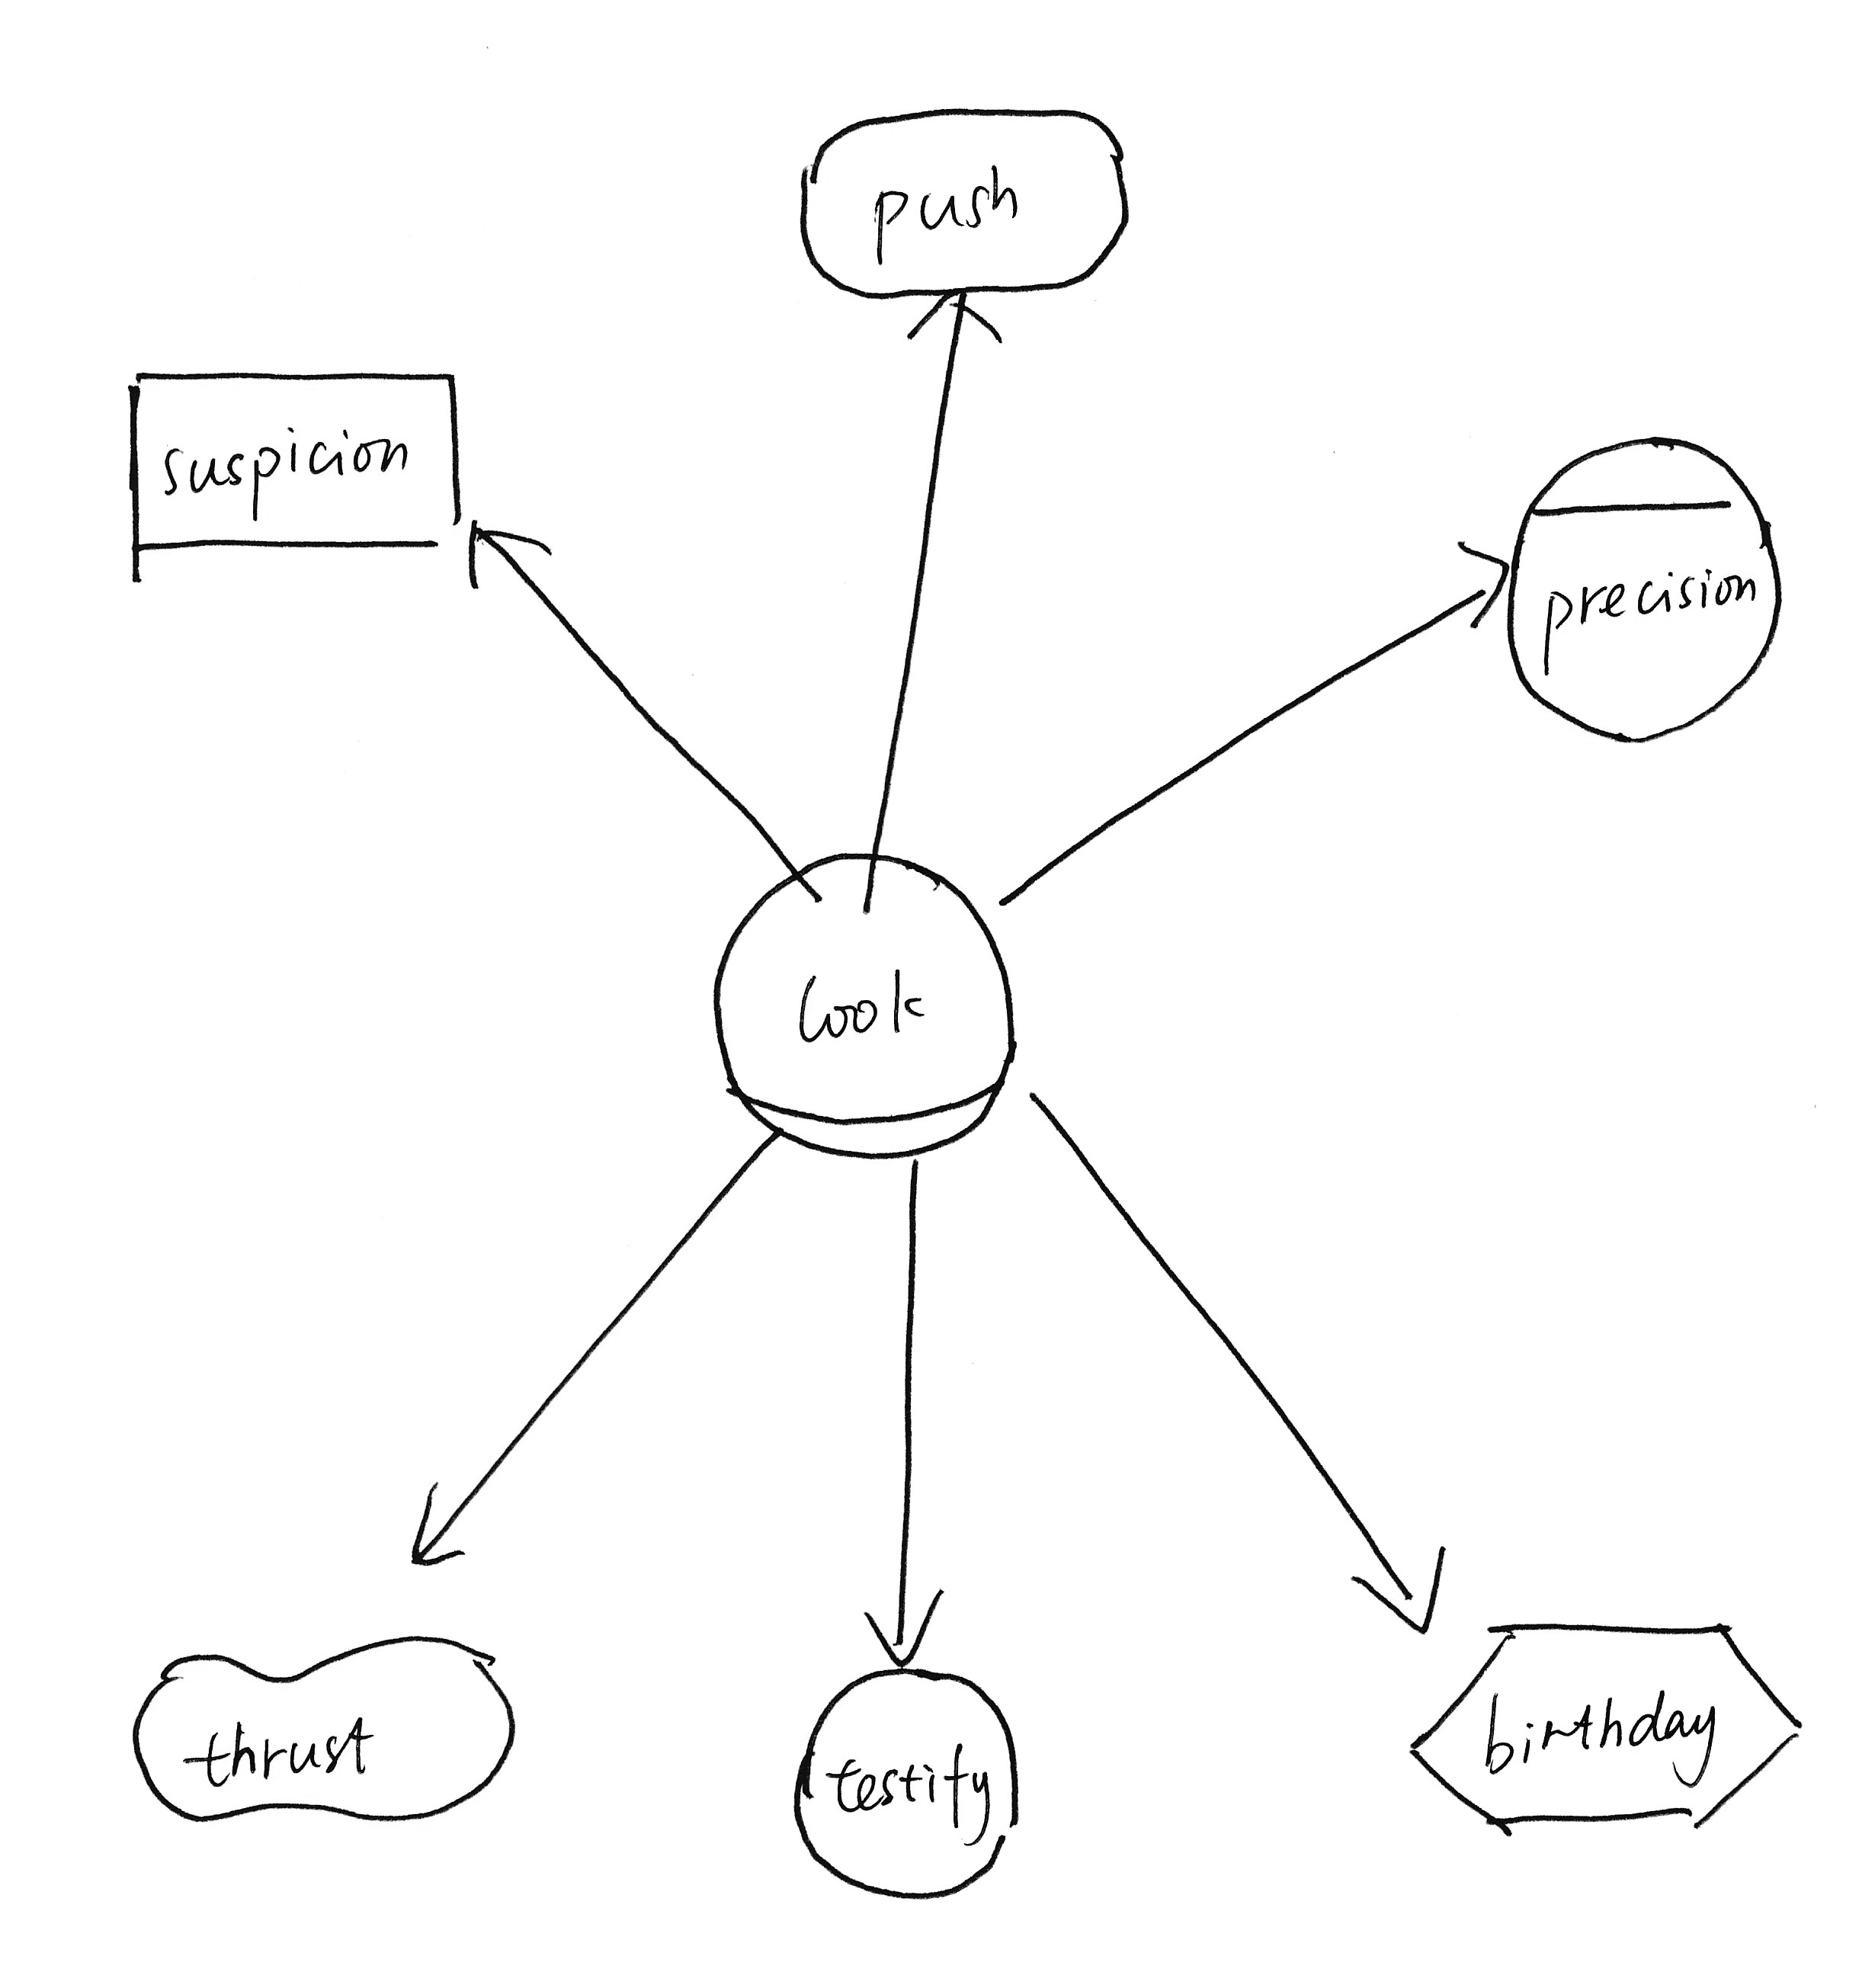actor: (772, 1658, 1043, 1919)
agent: (1491, 412, 1799, 756)
arrow: (1329, 1535, 1480, 1651), (386, 1472, 499, 1595), (453, 511, 567, 617), (853, 1577, 964, 1683), (893, 282, 1031, 361), (1445, 523, 1524, 645)
goal: (784, 81, 1154, 310)
quality: (109, 1621, 530, 1840)
resource: (107, 347, 478, 597)
role: (698, 835, 1033, 1177)
task: (1383, 1609, 1824, 1858)
